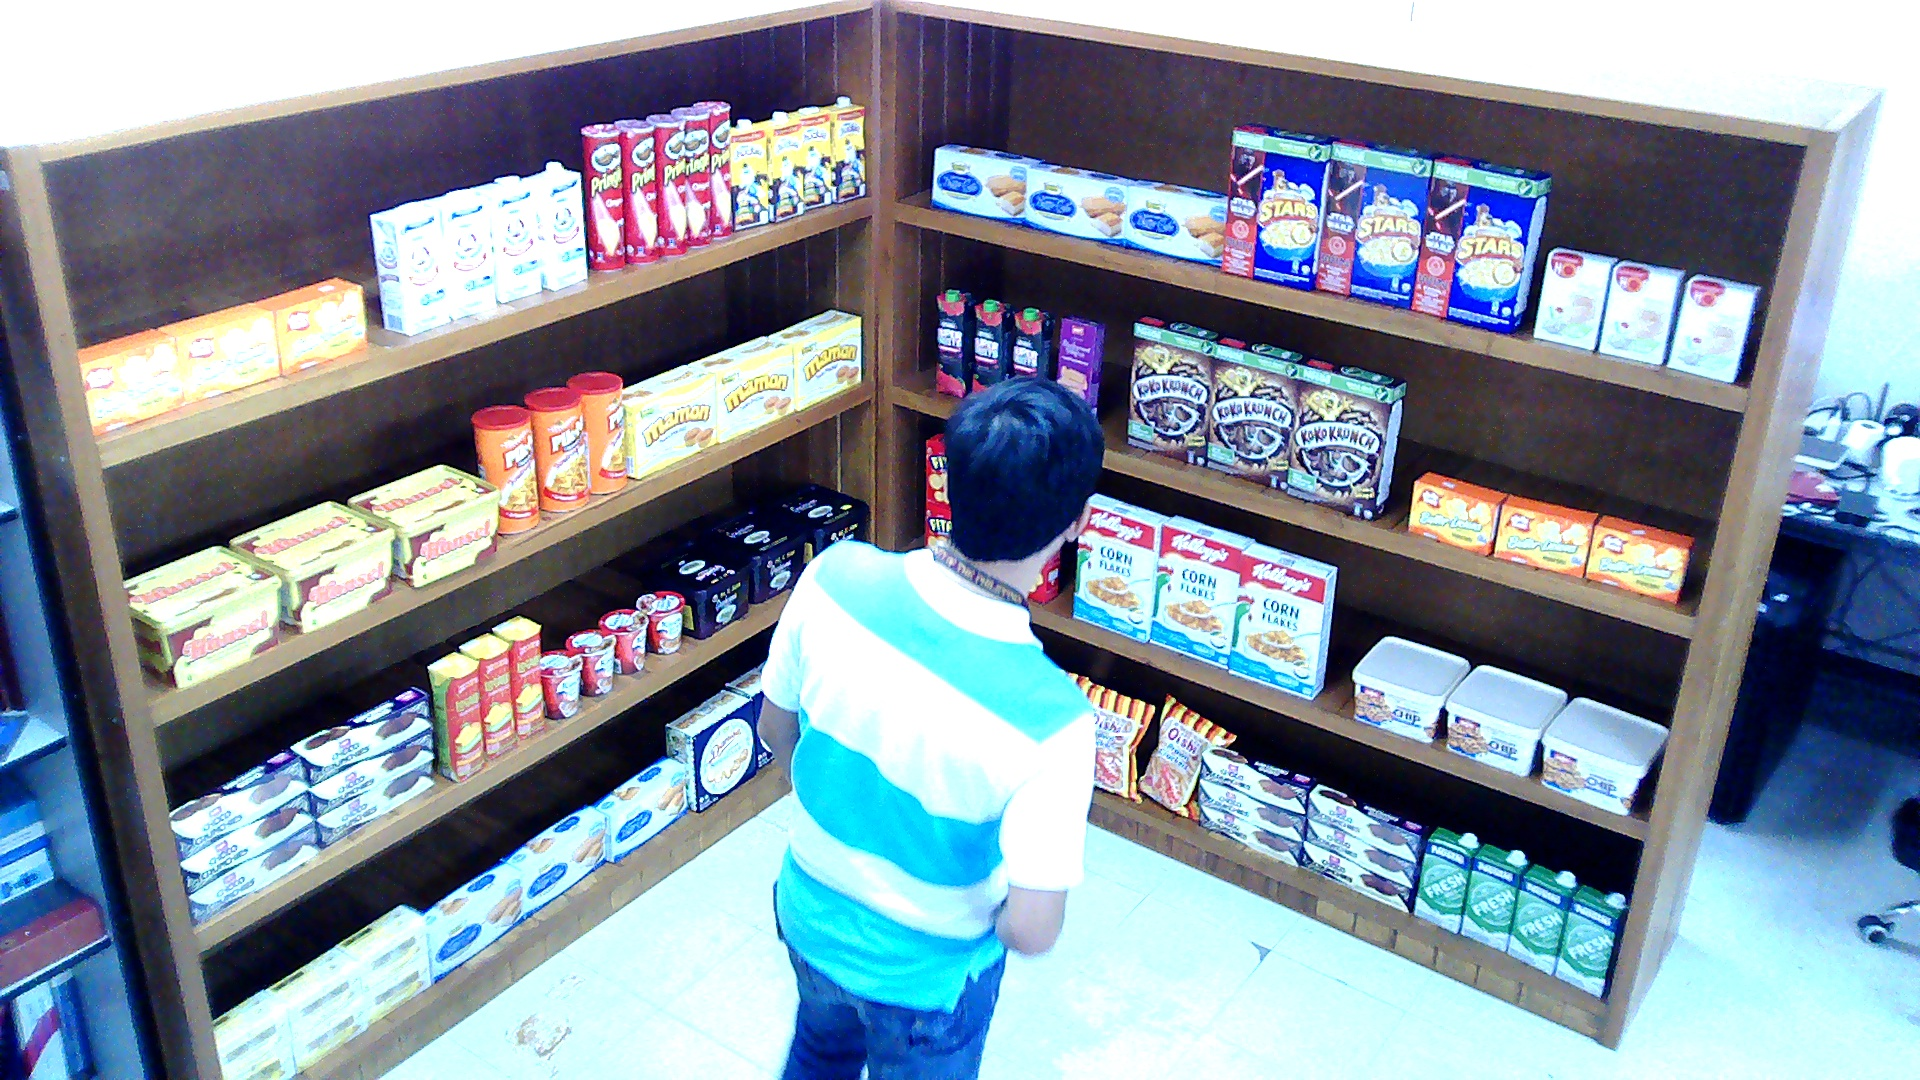Bear brand: (368, 200, 449, 335), (417, 189, 495, 319), (470, 173, 539, 303), (521, 160, 584, 290)
Buttercake: (420, 859, 522, 983), (498, 803, 603, 920), (591, 756, 687, 864), (1026, 159, 1134, 245), (930, 141, 1038, 224), (1125, 180, 1224, 268)
Butterlicious: (153, 301, 279, 404), (252, 274, 366, 375), (75, 328, 183, 434), (1583, 515, 1694, 603), (1490, 492, 1595, 575), (1407, 470, 1506, 553)
Camomille: (261, 947, 360, 1037), (332, 902, 425, 990), (210, 990, 288, 1073), (291, 997, 366, 1073), (363, 954, 429, 1026), (222, 1042, 294, 1078)
Choco Crunchies: (168, 746, 306, 859), (288, 684, 432, 785), (186, 821, 318, 927), (180, 792, 312, 895), (309, 729, 432, 817), (314, 758, 431, 846), (1305, 783, 1425, 859), (1302, 819, 1419, 889), (1298, 841, 1415, 911), (1200, 747, 1320, 812), (1197, 778, 1305, 841), (1196, 803, 1301, 864)
Chocolate Chips: (1538, 697, 1667, 816), (1446, 664, 1566, 774), (1350, 634, 1470, 742)
Chuckie: (753, 110, 804, 223), (818, 94, 863, 202), (786, 106, 831, 212), (729, 116, 768, 231)
Danisa: (665, 688, 752, 812)
Fita: (924, 432, 948, 508), (923, 499, 950, 548)
Fresh Milk: (1554, 883, 1626, 996), (1506, 864, 1578, 974), (1413, 826, 1479, 934), (1461, 844, 1527, 952)
Grahams: (696, 509, 810, 603), (645, 542, 753, 639), (753, 481, 867, 562)
Hansel: (119, 544, 278, 688), (228, 499, 393, 632), (344, 463, 497, 585)
Head: (936, 357, 1104, 605)
Honey Stars: (1410, 153, 1551, 333), (1314, 137, 1440, 308), (1220, 121, 1337, 290)
Kellogg Corn Flakes: (1227, 540, 1335, 697), (1148, 513, 1253, 668), (1071, 493, 1167, 641)
Kimchi Noodles: (597, 607, 648, 675), (563, 630, 614, 693), (633, 591, 684, 654), (543, 648, 582, 718)
Koko Krunch: (1283, 353, 1406, 520), (1206, 335, 1308, 490), (1128, 314, 1224, 465)
Locally Mango: (426, 650, 486, 783), (458, 630, 515, 756), (491, 614, 542, 738)
Mamon: (686, 335, 791, 441), (621, 364, 717, 479), (768, 308, 861, 411)
Oishi Prawn: (1137, 693, 1236, 819), (1079, 677, 1154, 801)
Pik-nik: (471, 405, 537, 533), (522, 387, 588, 513), (567, 369, 627, 495)
Pringles: (612, 119, 660, 263), (578, 124, 623, 270), (645, 112, 687, 256), (669, 108, 711, 248), (693, 99, 732, 239)
Super Fruits: (972, 297, 1014, 391), (936, 288, 972, 396), (1011, 306, 1053, 378)
Wafer: (1056, 315, 1104, 425)
iHop: (1664, 272, 1757, 380), (1599, 259, 1683, 365), (1533, 245, 1617, 348)
